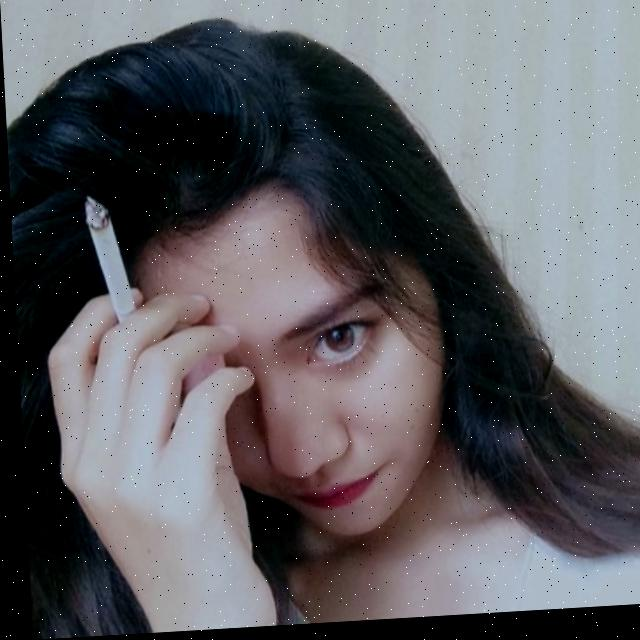cigarette: (81, 194, 134, 325)
